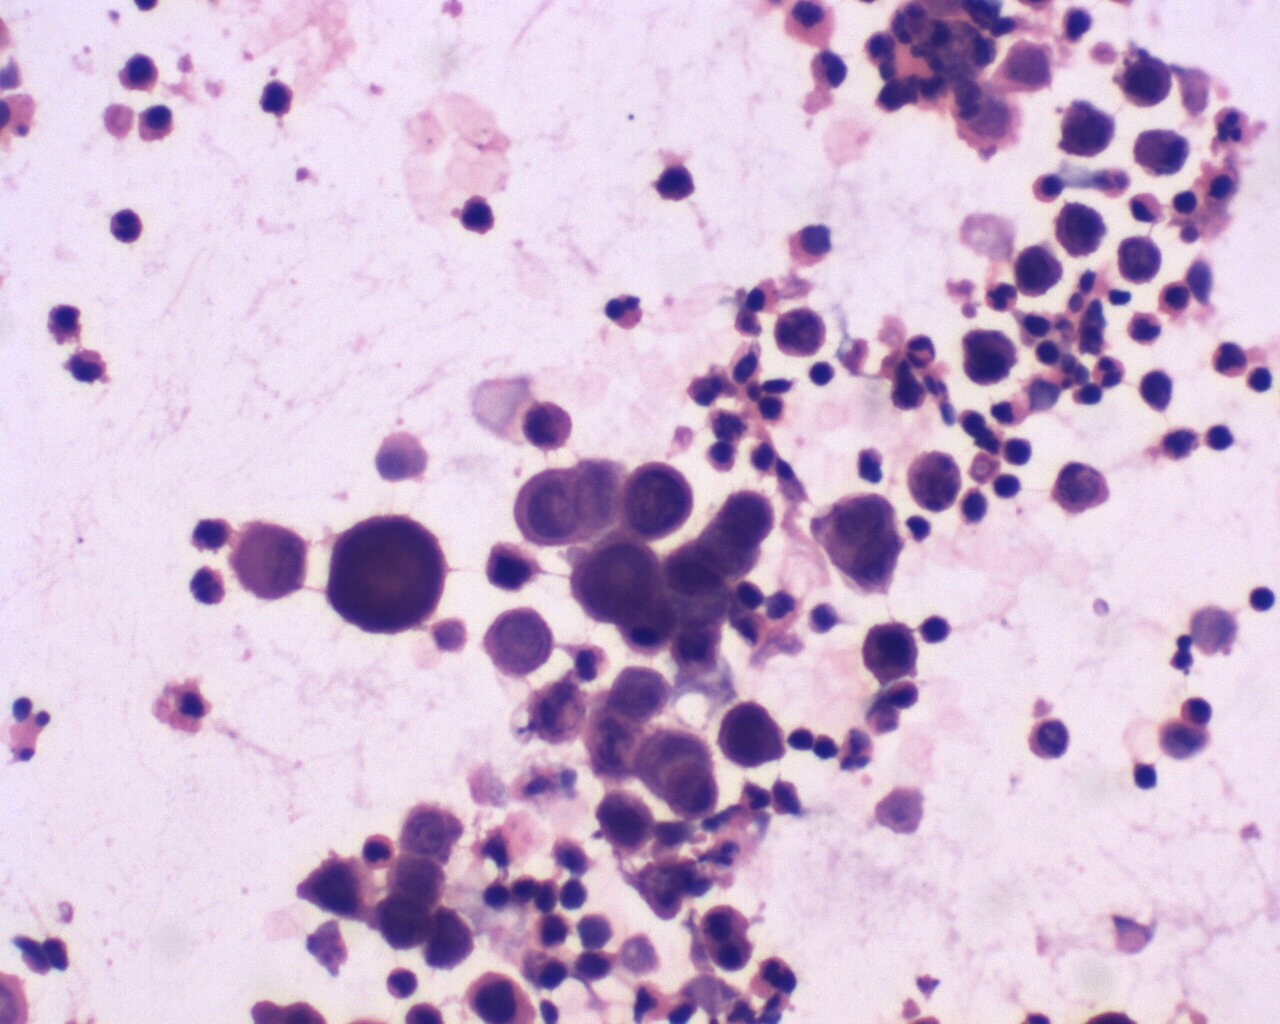ab: (327, 505, 450, 642), (818, 487, 901, 601), (573, 529, 659, 627), (624, 453, 696, 546), (234, 520, 308, 600), (719, 698, 790, 775), (483, 603, 552, 675), (905, 445, 964, 518), (859, 618, 921, 685), (595, 788, 657, 854), (665, 758, 725, 824), (1116, 48, 1180, 111), (609, 661, 671, 725), (960, 328, 1023, 389), (1058, 99, 1117, 159), (1053, 199, 1106, 258), (775, 306, 832, 360), (1015, 247, 1064, 299), (1118, 233, 1165, 285)
lymph: (988, 469, 1030, 504), (1204, 421, 1240, 459), (1244, 583, 1278, 618), (1246, 365, 1279, 397)
meso: (781, 1, 845, 52)
neutro: (1209, 103, 1257, 149), (604, 287, 648, 335), (104, 204, 150, 248), (385, 962, 423, 1002), (1094, 354, 1132, 391)
